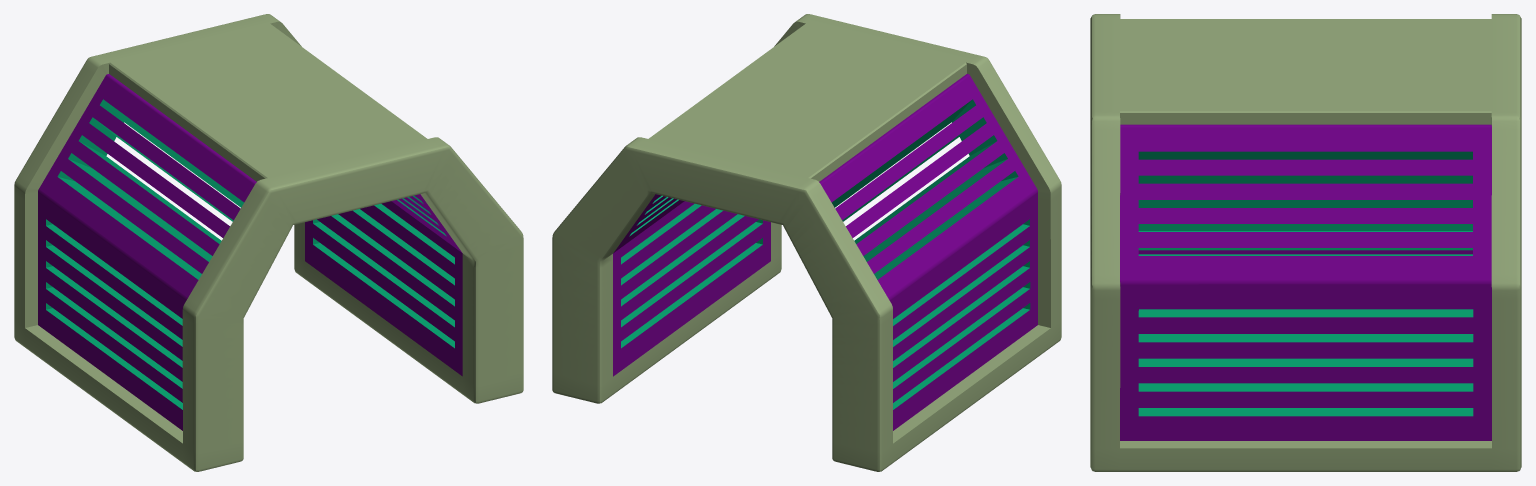
The model's file is catridgeNew 2.fbx.
3 views of the same model, side by side, from view 1: azimuth 30°, elevation 25°; view 2: azimuth 150°, elevation 25°; view 3: azimuth 270°, elevation 25° (orthographic). The views are drawn at different scales.
Visible parts, largest first — view 1: cartridge2_3; view 2: cartridge2_3; view 3: cartridge2_3.
Boxes of the visible parts, left/top/right/bottom form: cartridge2_3: left=14, top=14, right=523, bottom=471; cartridge2_3: left=552, top=14, right=1061, bottom=471; cartridge2_3: left=1090, top=14, right=1521, bottom=471.
Size of the model in its own units: 0.4217 by 0.3253 by 0.4048.
